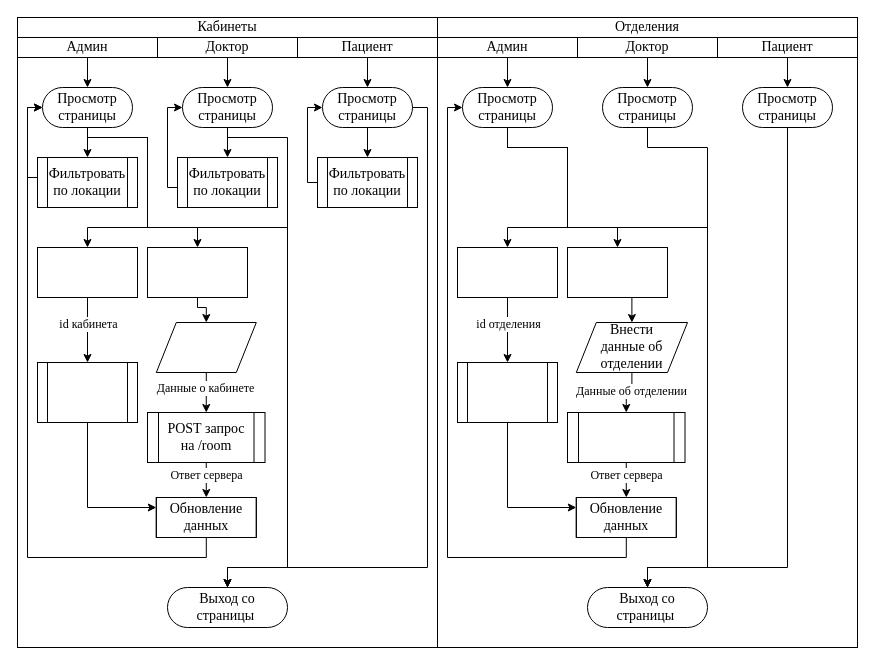
Image size: 875x665. Some labels were removed from this diagram. Here are the shapes that lost their labels. From the top down, the centre of each, then its label:
(x=87, y=272): Удалить кабинет
(x=197, y=272): Создать новый кабинет
(x=507, y=272): Удалить отделение
(x=617, y=272): Создать новое отделение
(x=205, y=347): Внести данные о кабинете
(x=87, y=392): DELETE запрос на /room
(x=507, y=392): DELETE запрос на /department
(x=625, y=437): POST запрос на /department
